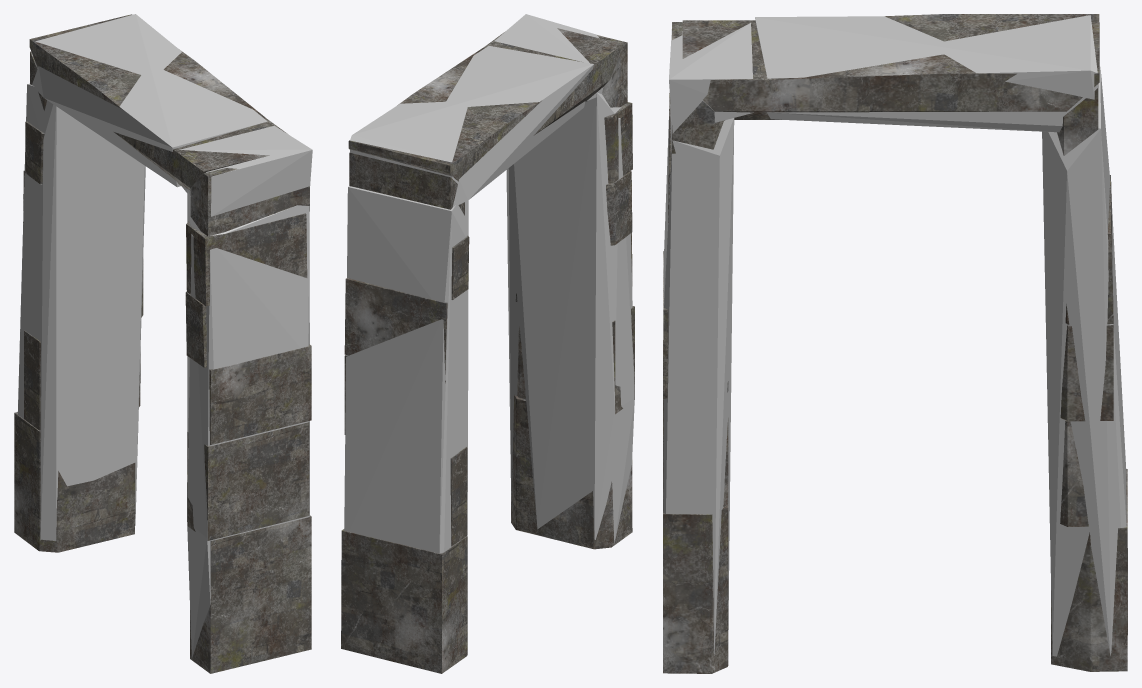
The model's file is SM_DoorFrame_B_02.fbx.
The picture shows the model from 3 angles, left to right: view 1: azimuth 30°, elevation 25°; view 2: azimuth 150°, elevation 25°; view 3: azimuth 270°, elevation 25°; orthographic projection. The views are drawn at different scales.
Parts seen in each view (by area): view 1: SM_DoorFrame_B_02_ConvexHulls, SM_DoorFrame_B_02; view 2: SM_DoorFrame_B_02_ConvexHulls, SM_DoorFrame_B_02; view 3: SM_DoorFrame_B_02_ConvexHulls, SM_DoorFrame_B_02.
Part boxes in pixels (bbox=[...]): SM_DoorFrame_B_02_ConvexHulls: bbox=[17, 14, 312, 658]; SM_DoorFrame_B_02: bbox=[14, 14, 311, 673]; SM_DoorFrame_B_02_ConvexHulls: bbox=[344, 14, 634, 553]; SM_DoorFrame_B_02: bbox=[341, 28, 634, 673]; SM_DoorFrame_B_02_ConvexHulls: bbox=[663, 15, 1126, 656]; SM_DoorFrame_B_02: bbox=[663, 14, 1127, 673].
Size of the model in its own units: 57.73 by 177 by 255.
